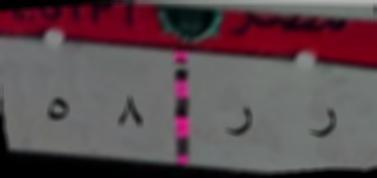5: (46, 95, 72, 124)
8: (111, 86, 146, 129)
raa: (215, 99, 255, 140), (306, 101, 340, 140)
